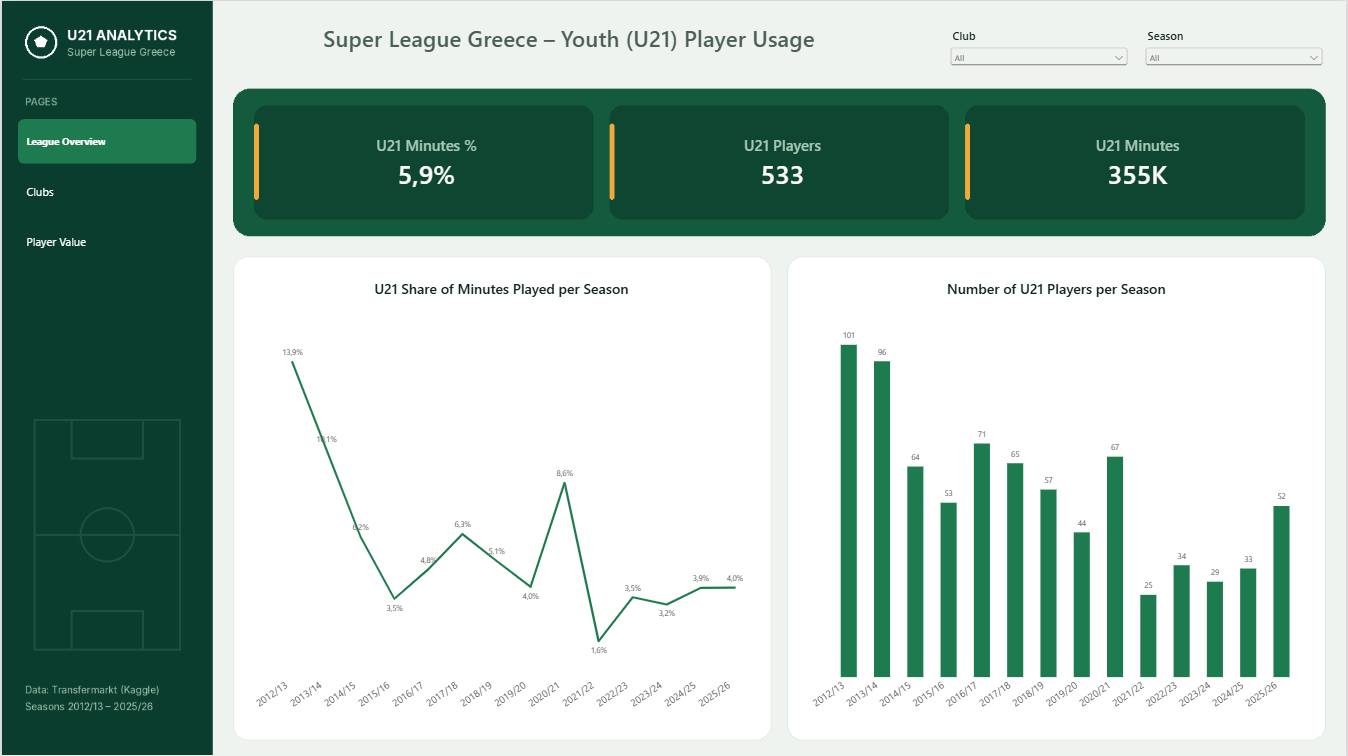

The page's visual inventory and layout, read from the dashboard file:
{"tool":"powerbi","page":{"name":"League Overview","canvas":[1920,1080],"ordinal":0},"visuals":[{"type":"textbox","box":[330,30,960,75],"z":0},{"type":"cardVisual","fields":{"Data":["Measure.U21 Minutes %"]},"box":[381,159,450,147],"z":1000},{"type":"cardVisual","fields":{"Data":["Measure.U21 Players"]},"box":[890,159,450,147],"z":2000},{"type":"cardVisual","fields":{"Data":["Measure.U21 Minutes"]},"box":[1397,159,450,147],"z":3000},{"type":"lineChart","title":"U21 Share of Minutes Played per Season","fields":{"Category":["Season.season_label"],"Y":["Measure.U21 Minutes %"]},"box":[345,383,738,660],"z":4000},{"type":"clusteredColumnChart","title":"Number of U21 Players per Season","fields":{"Category":["Season.season_label"],"Y":["Measure.U21 Players"]},"box":[1137,383,738,660],"z":5000},{"type":"slicer","fields":{"Values":["gr_clubs.club_short_name"]},"box":[1350,38,263,75.1],"z":6000},{"type":"slicer","fields":{"Values":["Season.season_label"]},"box":[1628,38,263,75.1],"z":7000},{"type":"pageNavigator","box":[23,168,255,210],"z":7001}]}

Visuals, with their boxes on the page's 1920x1080 design canvas (x1, y1, x2, y2). These are canvas units, not pixel positions in the 1348x756 screenshot, which may show the page scaled, cropped or inside an application window:
textbox: (left=330, top=30, right=1290, bottom=105)
cardVisual - Measure.U21 Minutes %: (left=381, top=159, right=831, bottom=306)
cardVisual - Measure.U21 Players: (left=890, top=159, right=1340, bottom=306)
cardVisual - Measure.U21 Minutes: (left=1397, top=159, right=1847, bottom=306)
"U21 Share of Minutes Played per Season" lineChart: (left=345, top=383, right=1083, bottom=1043)
"Number of U21 Players per Season" clusteredColumnChart: (left=1137, top=383, right=1875, bottom=1043)
slicer - gr_clubs.club_short_name: (left=1350, top=38, right=1613, bottom=113)
slicer - Season.season_label: (left=1628, top=38, right=1891, bottom=113)
pageNavigator: (left=23, top=168, right=278, bottom=378)
